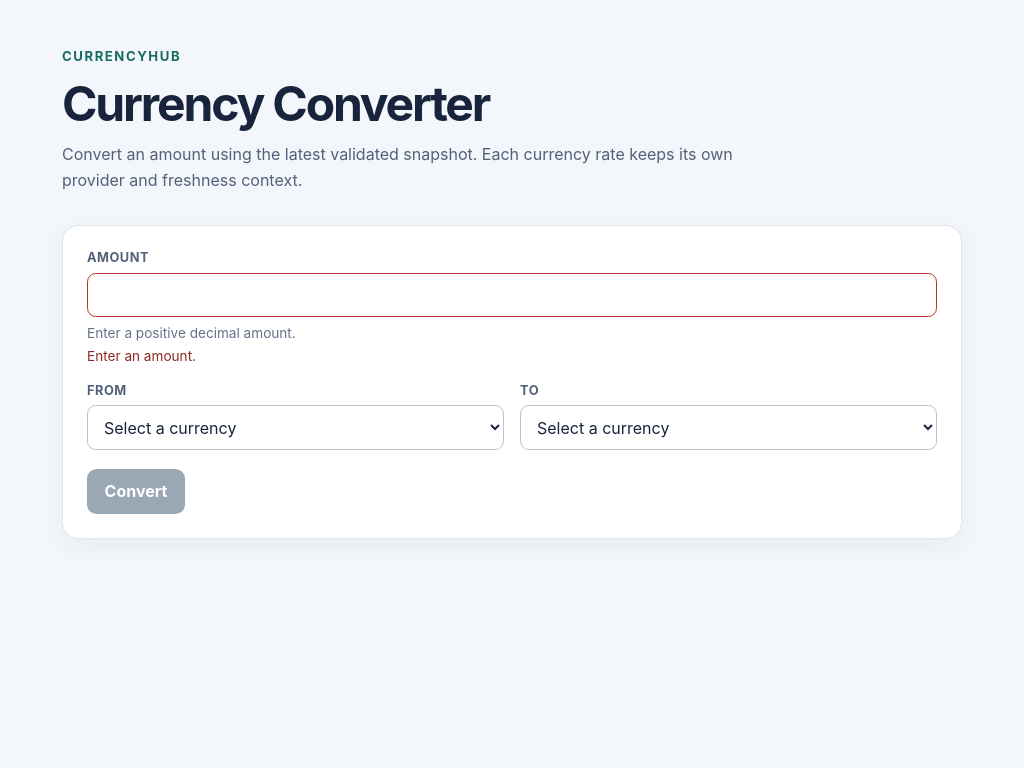
Test: ConverterComponent › maps invalid_conversion_input to safe user-facing validation text
Type "123.456789012345678901" into the field with id "amount" at (512, 295), box [87,273,937,317]
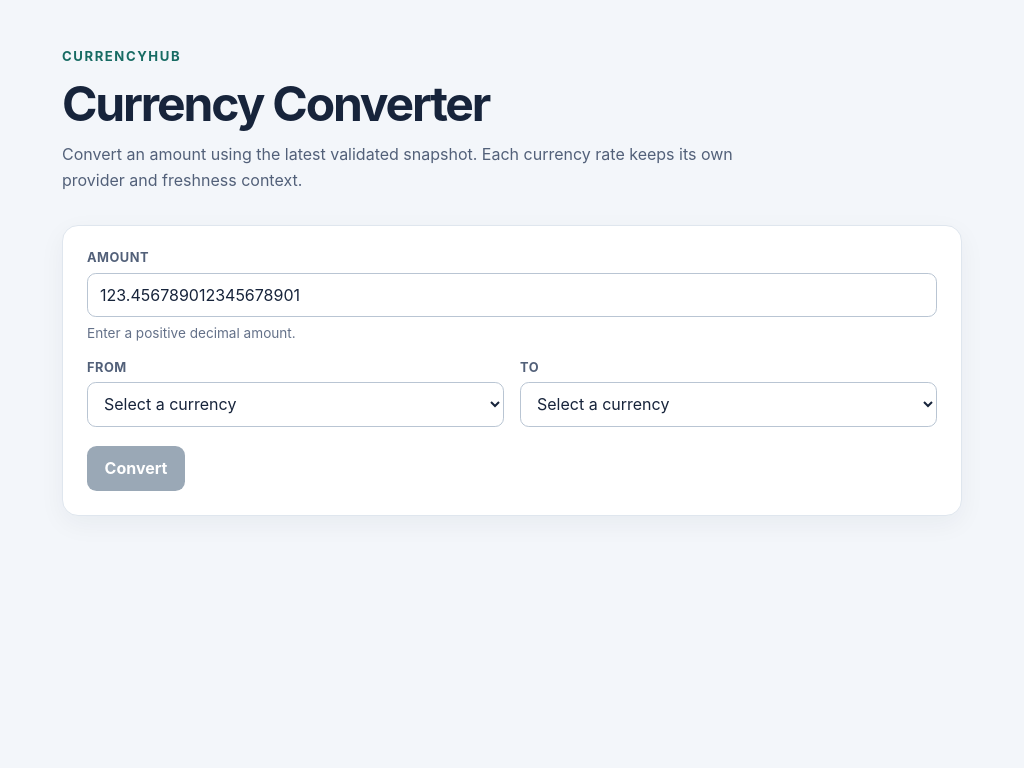
Select "EUR — Euro" in the dropdown with id "source-currency" at (296, 404), box [87,382,504,427]
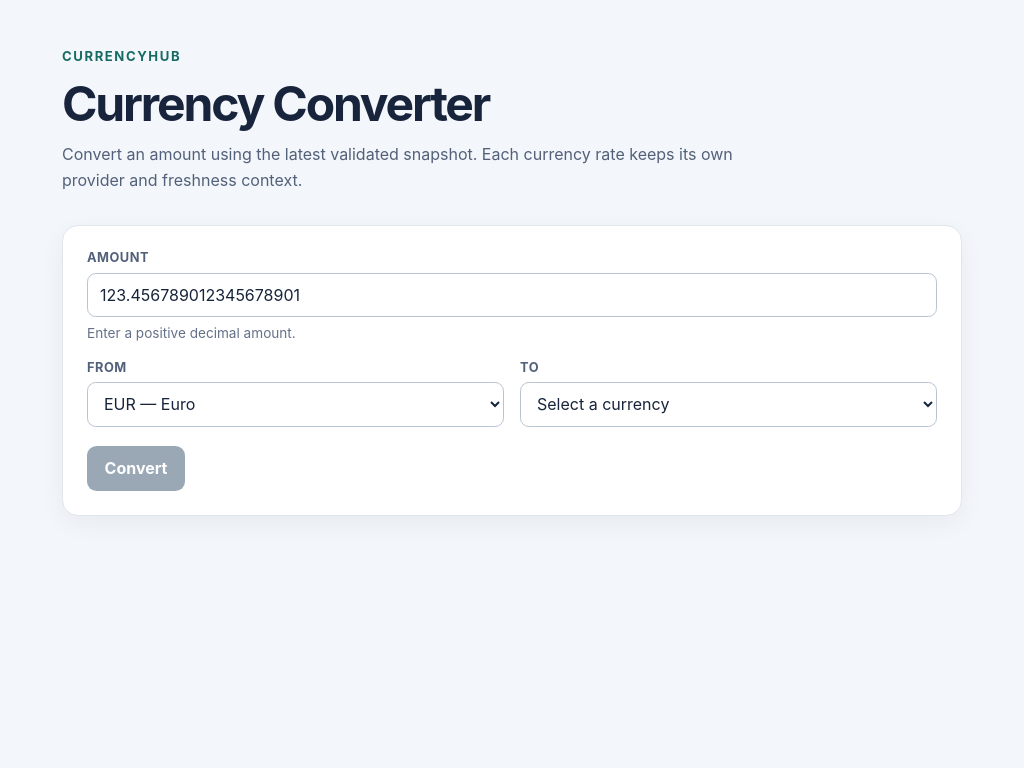
Select "BTC — Bitcoin" in the dropdown with id "target-currency" at (728, 404), box [520,382,937,427]
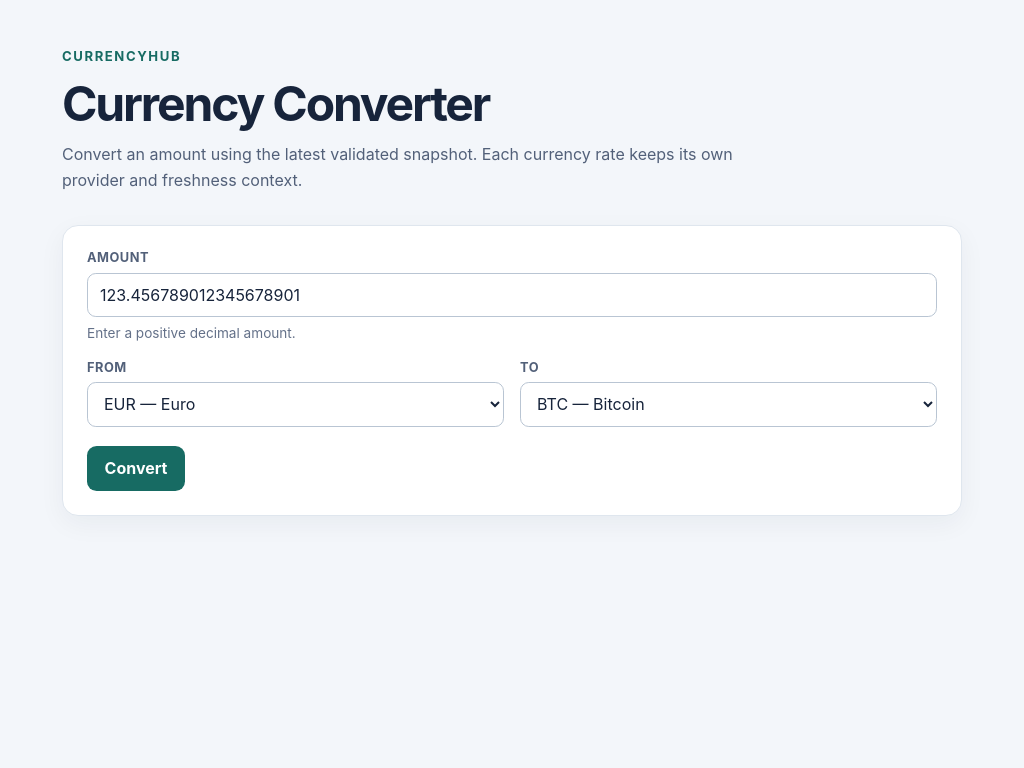
Click the submit button at (136, 468), box [87,446,185,491]
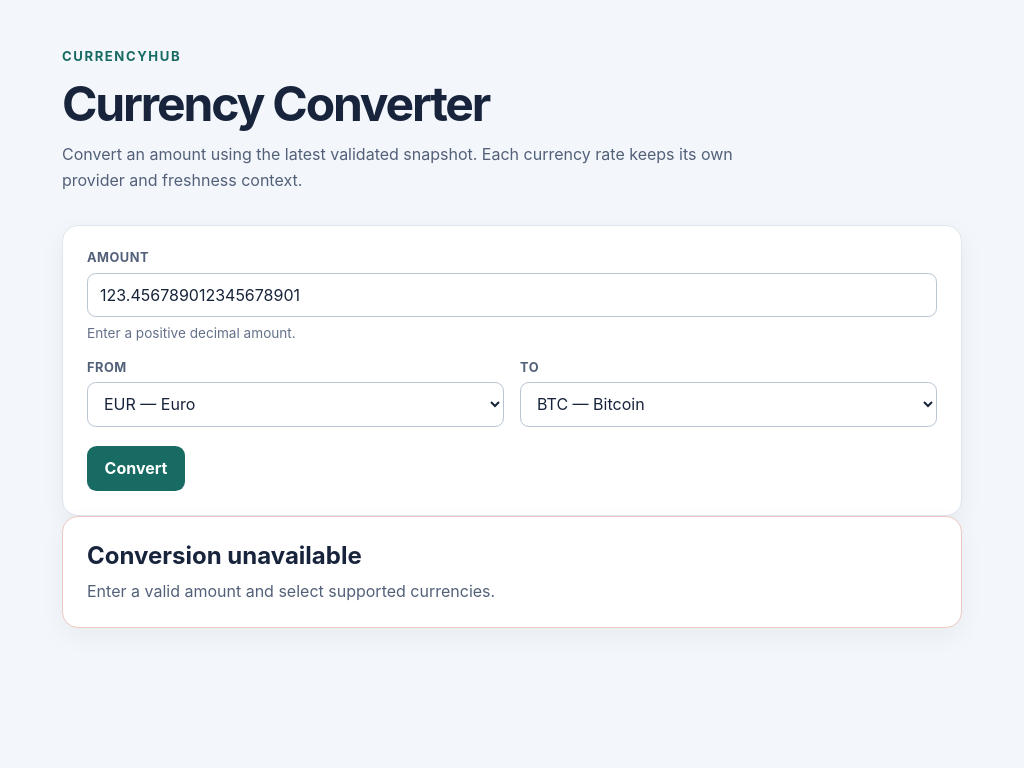
Now the text "Enter a valid amount and select supported currencies." is shown, box [87,579,495,603]
